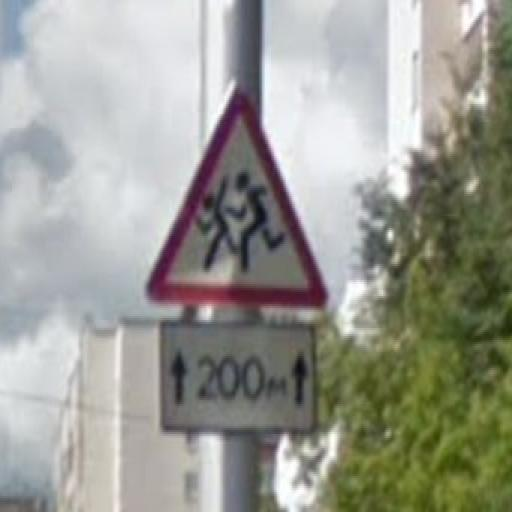traffic_sign: (147, 79, 331, 311)
